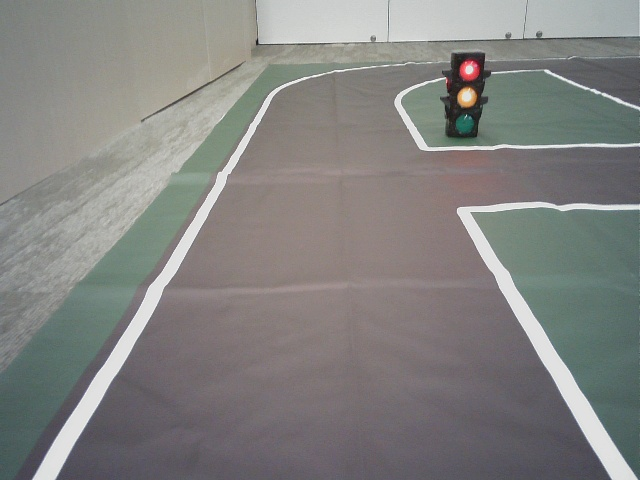red: (456, 60, 477, 132)
